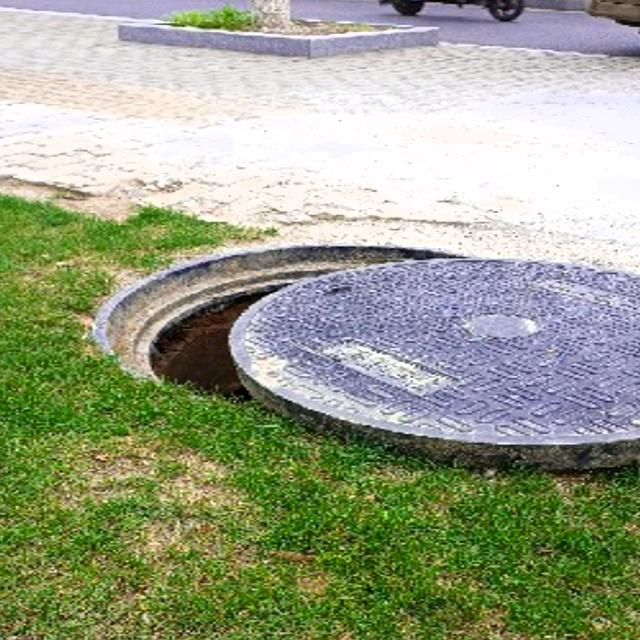uncovered: (87, 240, 640, 474)
